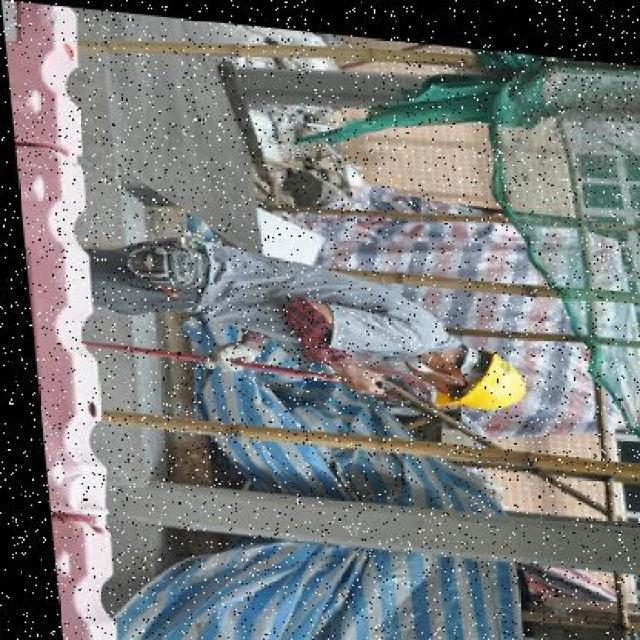helmet: (426, 334, 522, 406)
